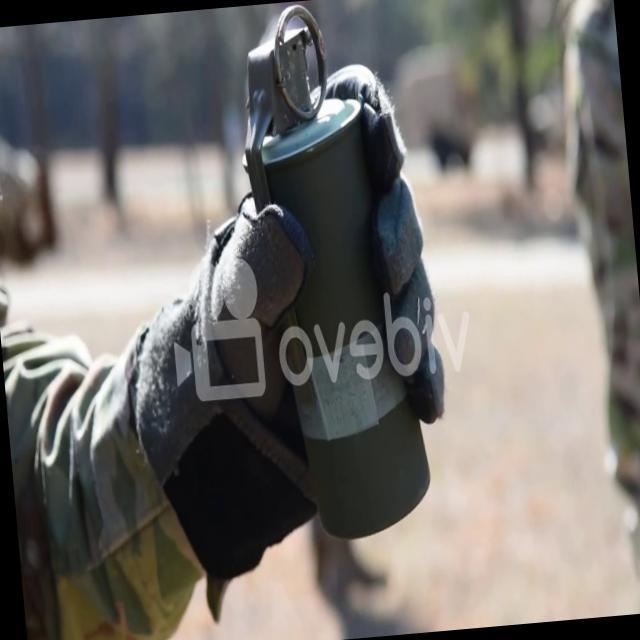grenade: (234, 0, 442, 549)
